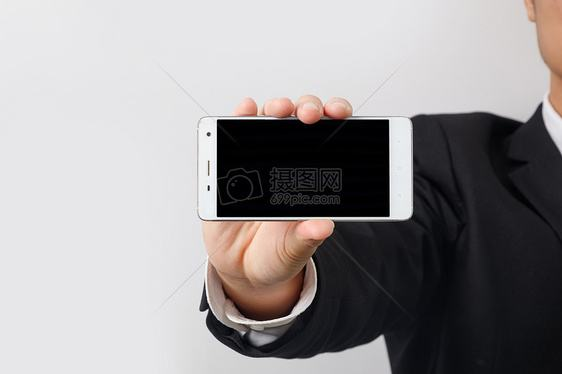phone: (173, 93, 416, 312)
